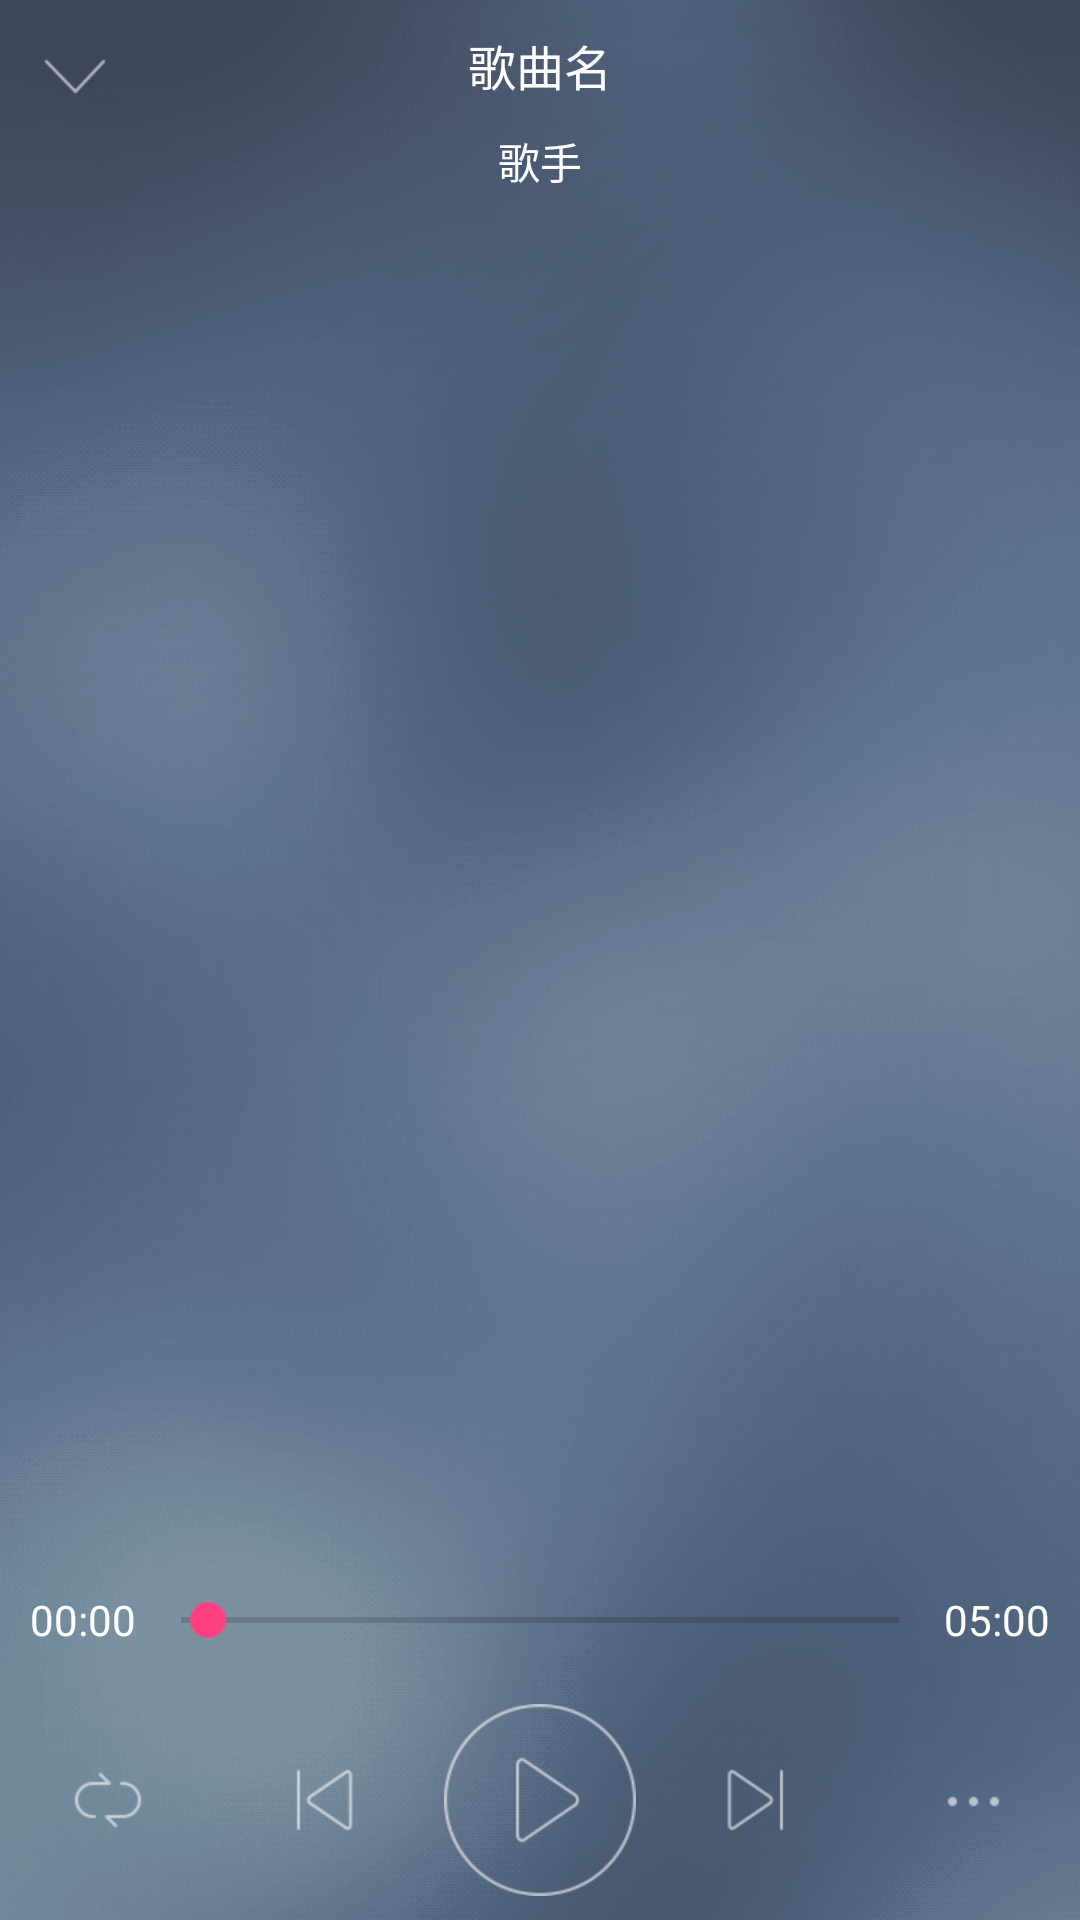

Named icons in this screenshot (1080*1920) and their centers, (x=x, y=y):
player back: (x=75, y=76)
player mode list: (x=108, y=1800)
player more: (x=973, y=1801)
player next: (x=755, y=1800)
player play: (x=536, y=1800)
player pre: (x=325, y=1800)
